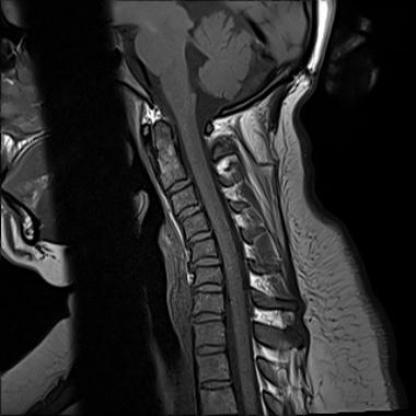Disc Bulgerotation: (184, 227, 215, 246), (188, 253, 222, 270)
